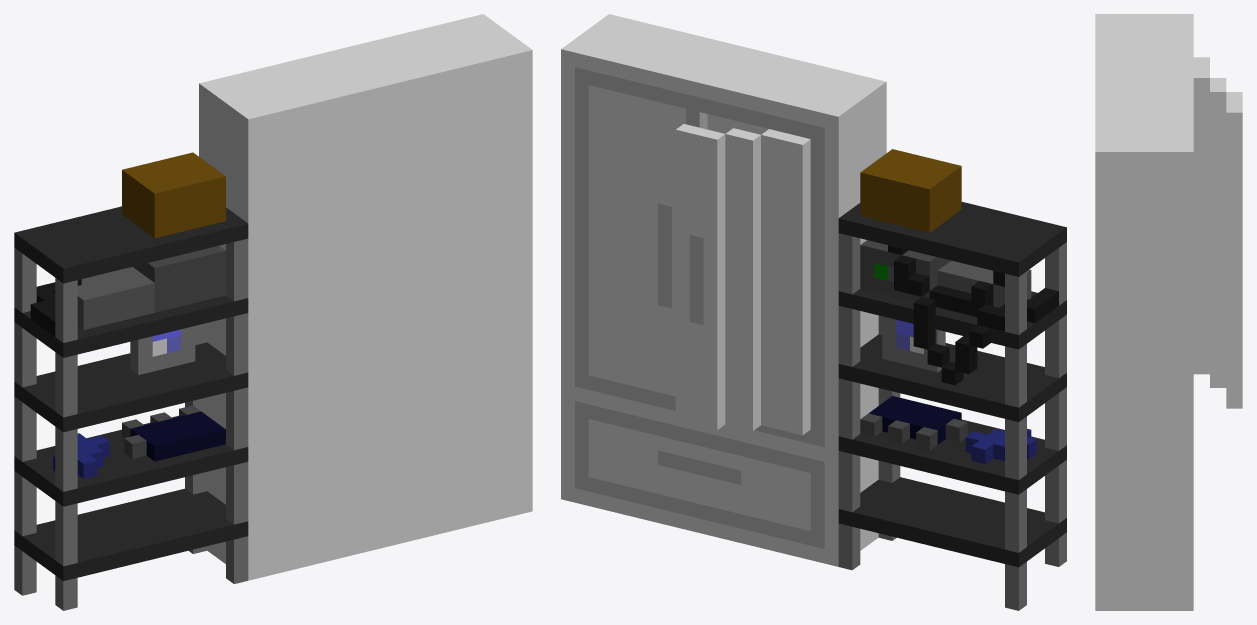
Rendered from hacker room-q-0-4.obj.
The picture shows the model from 3 angles, left to right: view 1: azimuth 30°, elevation 25°; view 2: azimuth 150°, elevation 25°; view 3: azimuth 270°, elevation 25°; orthographic projection. The views are drawn at different scales.
Size of the model in its own units: 3.3 by 3.1 by 0.9.
Materials: 1 (1 with a texture image).
